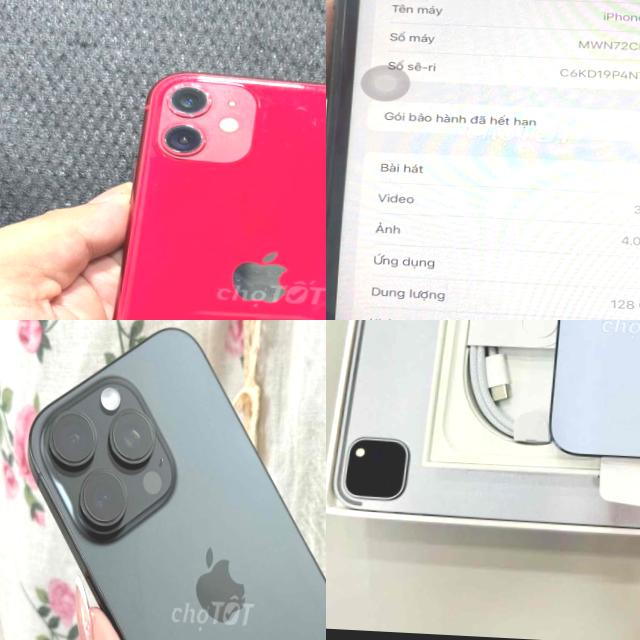gen_11: (326, 0, 640, 320), (90, 64, 326, 320)
gen_16: (0, 320, 326, 640)
scratch: (137, 114, 210, 168), (155, 80, 217, 120)
